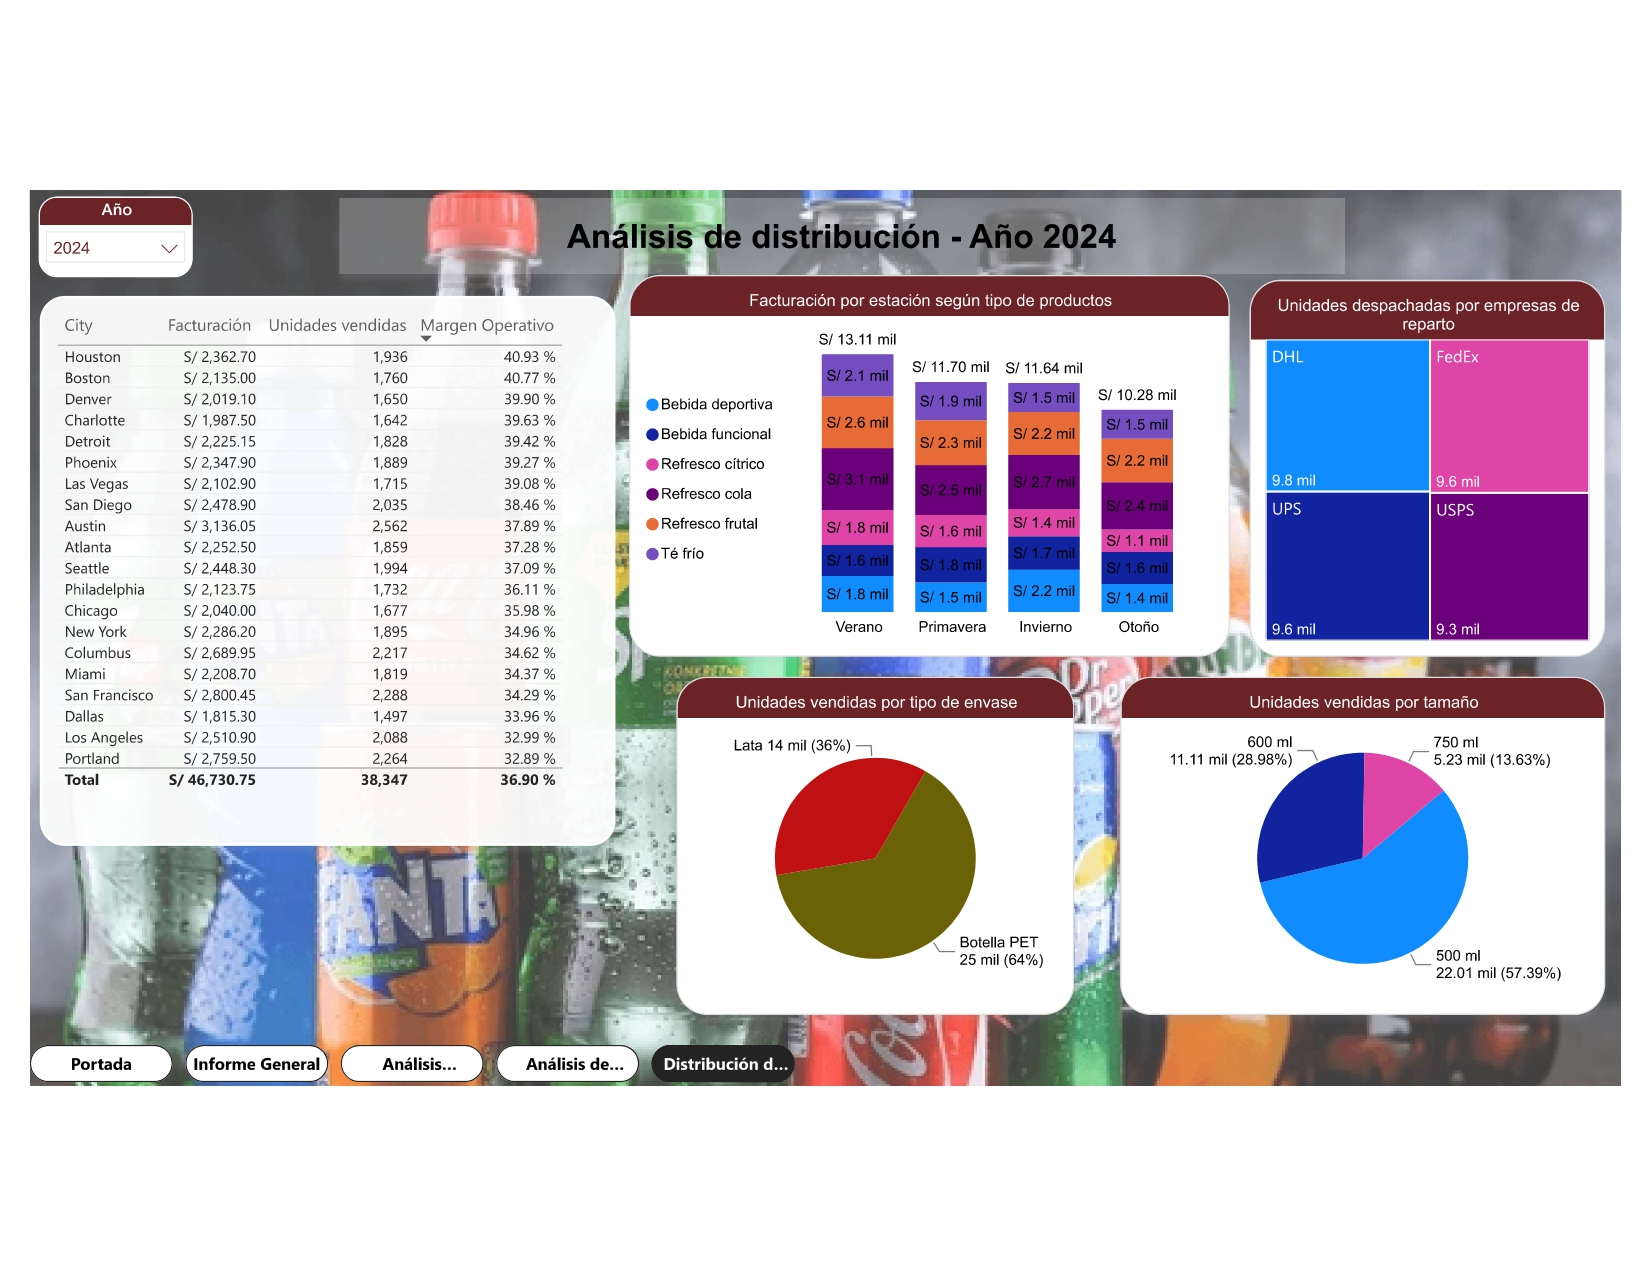

Layout of this report page (visuals, bound fields, positions):
{"tool":"powerbi","page":{"name":"Distribución de mercado","canvas":[1280,720],"ordinal":4},"visuals":[{"type":"pageNavigator","box":[0,687.2,615.8,29.6],"z":0},{"type":"card","fields":{"Values":["Tabla medidas.Año distribución"]},"box":[249.1,7.3,808.2,60],"z":1000},{"type":"slicer","title":"Año","fields":{"Values":["CalendarioDAX.Año"]},"box":[7.3,4.5,123.6,65.5],"z":2000},{"type":"tableEx","fields":{"Values":["City.City","Tabla medidas.Facturación","Tabla medidas.Unidades vendidas","Tabla medidas.Margen Operativo"]},"box":[7.7,84.5,463.3,442.4],"z":3000},{"type":"treemap","title":"Unidades despachadas por empresas de reparto","fields":{"Values":["Tabla medidas.Unidades vendidas"],"Group":["Delivery Company.Delivery Company"]},"box":[981.4,72.5,285.4,303],"z":4000},{"type":"columnChart","title":"Facturación por estación según tipo de productos","fields":{"Category":["CalendarioDAX.Estación"],"Y":["Tabla medidas.Facturación"],"Series":["Product type.Product Type"]},"box":[481.9,68.1,483,307.4],"z":5000},{"type":"pieChart","title":"Unidades vendidas por tipo de envase","fields":{"Category":["Tipo packaging.type of packaging"],"Y":["Tabla medidas.Unidades vendidas"]},"box":[520.3,390.8,319.5,272.2],"z":6000},{"type":"pieChart","title":"Unidades vendidas por tamaño","fields":{"Y":["Tabla medidas.Unidades vendidas"],"Category":["Ventas.Tamaño de Envase"]},"box":[877.1,390.8,389.7,272.2],"z":7000}]}

Visuals, with their boxes on the page's 1280x720 design canvas (x1, y1, x2, y2). These are canvas units, not pixel positions in the 1650x1275 screenshot, which may show the page scaled, cropped or inside an application window:
pageNavigator: [left=0, top=687, right=616, bottom=717]
card - Tabla medidas.Año distribución: [left=249, top=7, right=1057, bottom=67]
"Año" slicer: [left=7, top=4, right=131, bottom=70]
tableEx - City.City x Tabla medidas.Facturación: [left=8, top=84, right=471, bottom=527]
"Unidades despachadas por empresas de reparto" treemap: [left=981, top=72, right=1267, bottom=376]
"Facturación por estación según tipo de productos" columnChart: [left=482, top=68, right=965, bottom=376]
"Unidades vendidas por tipo de envase" pieChart: [left=520, top=391, right=840, bottom=663]
"Unidades vendidas por tamaño" pieChart: [left=877, top=391, right=1267, bottom=663]
